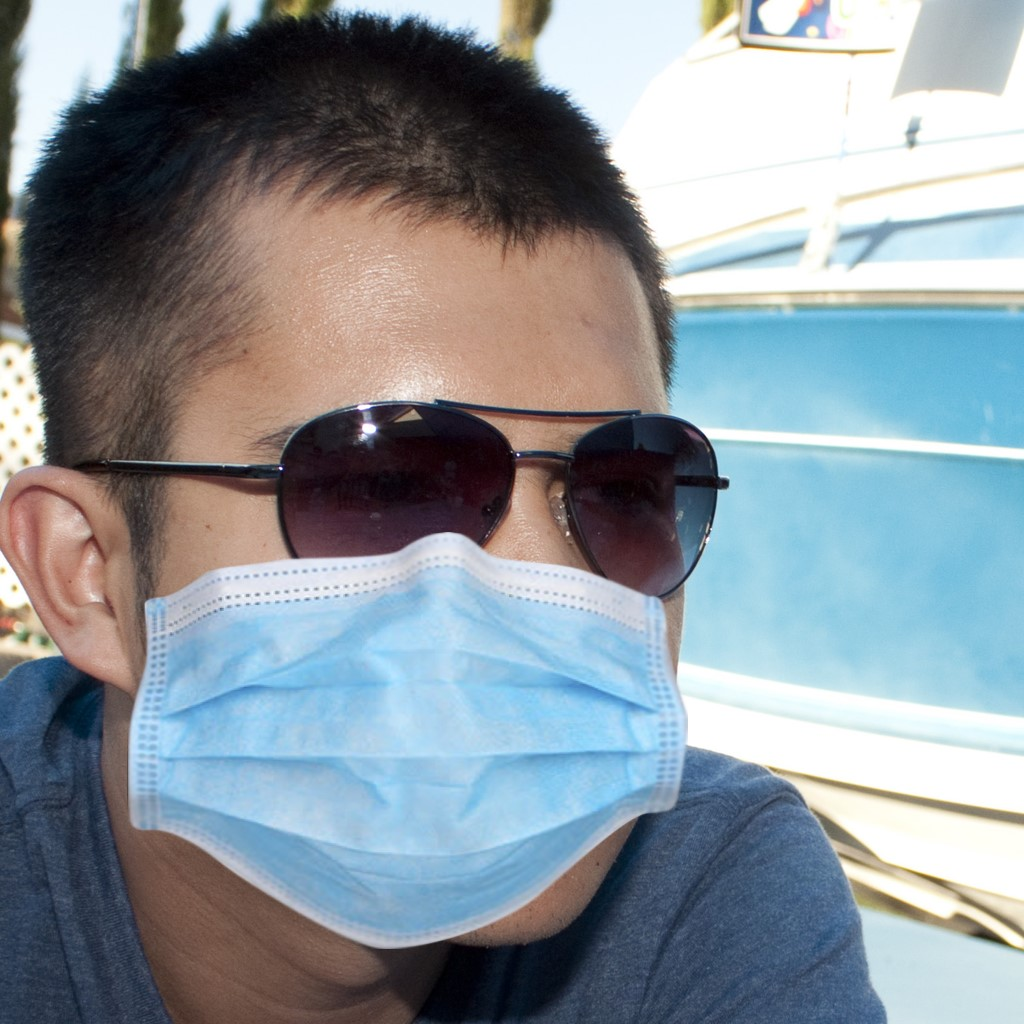con_mascara: (114, 187, 678, 941)
